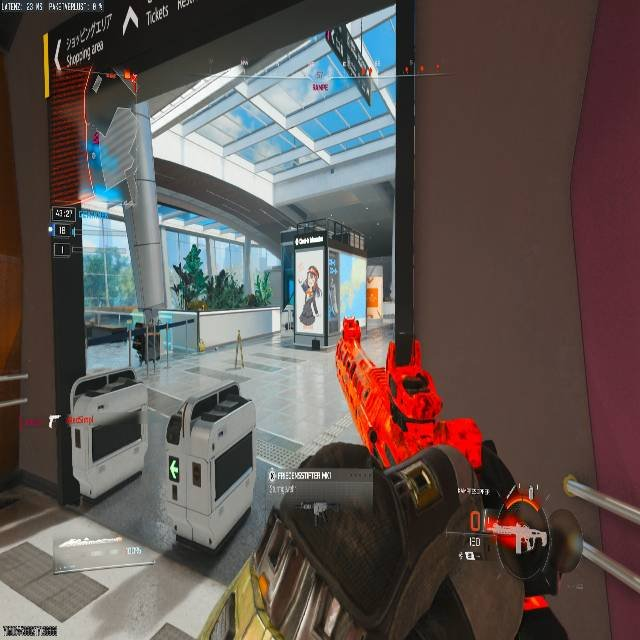head: (189, 243, 203, 258), (306, 266, 318, 278)
player: (173, 245, 210, 311), (301, 266, 320, 320)
